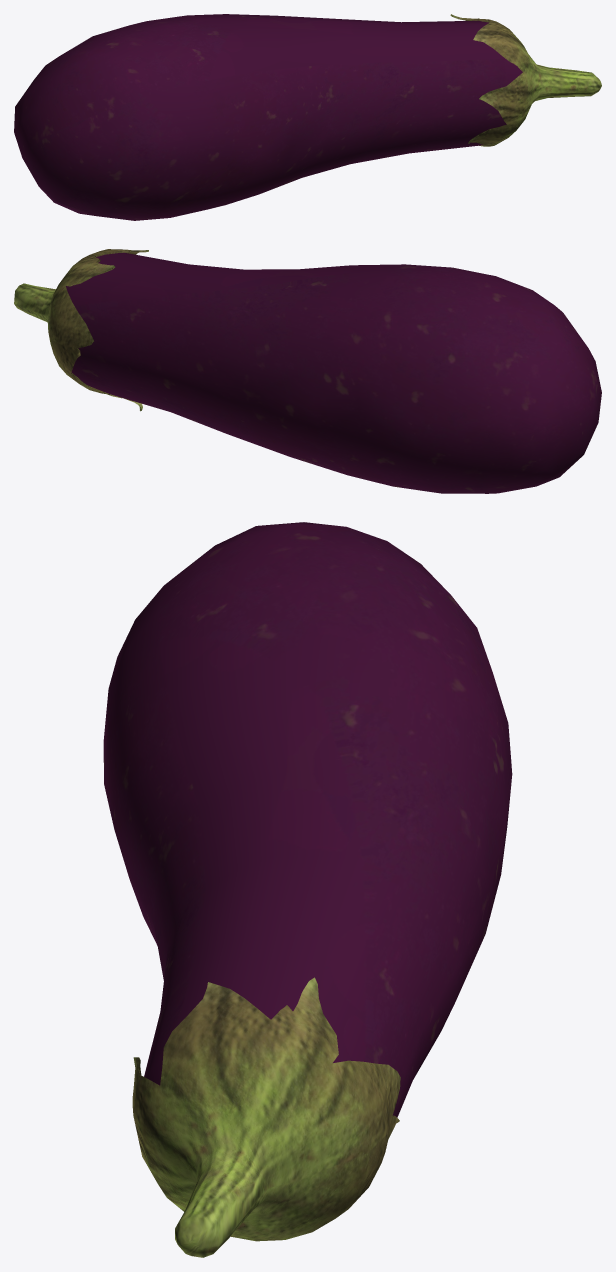
File: Brinjal.fbx
3 views of the same model, one above another, from view 1: azimuth 30°, elevation 25°; view 2: azimuth 150°, elevation 25°; view 3: azimuth 270°, elevation 25° (orthographic). The views are drawn at different scales.
Visible parts, largest first — view 1: Brinjal; view 2: Brinjal; view 3: Brinjal.
Boxes of the visible parts, x1=… form: Brinjal: x1=14, y1=14, x2=601, y2=220; Brinjal: x1=14, y1=249, x2=601, y2=493; Brinjal: x1=103, y1=522, x2=512, y2=1257.
Bounding box in the file's own units: 25.04 × 8 × 8.16.
